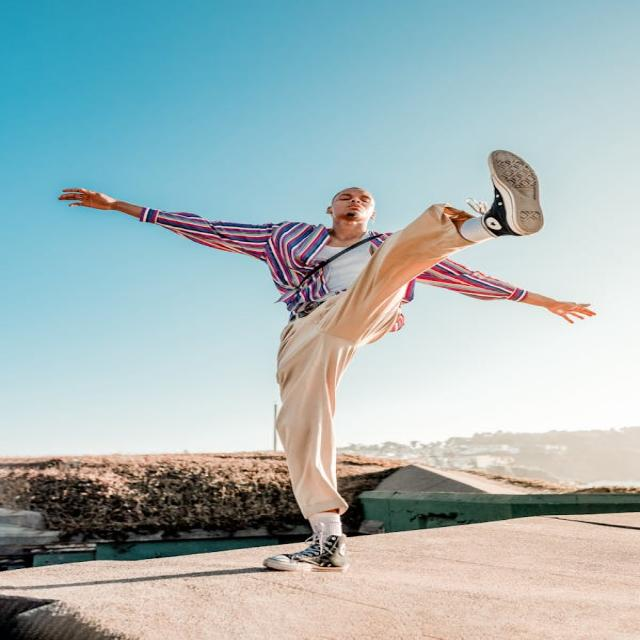Real human 2: (64, 147, 606, 573)
